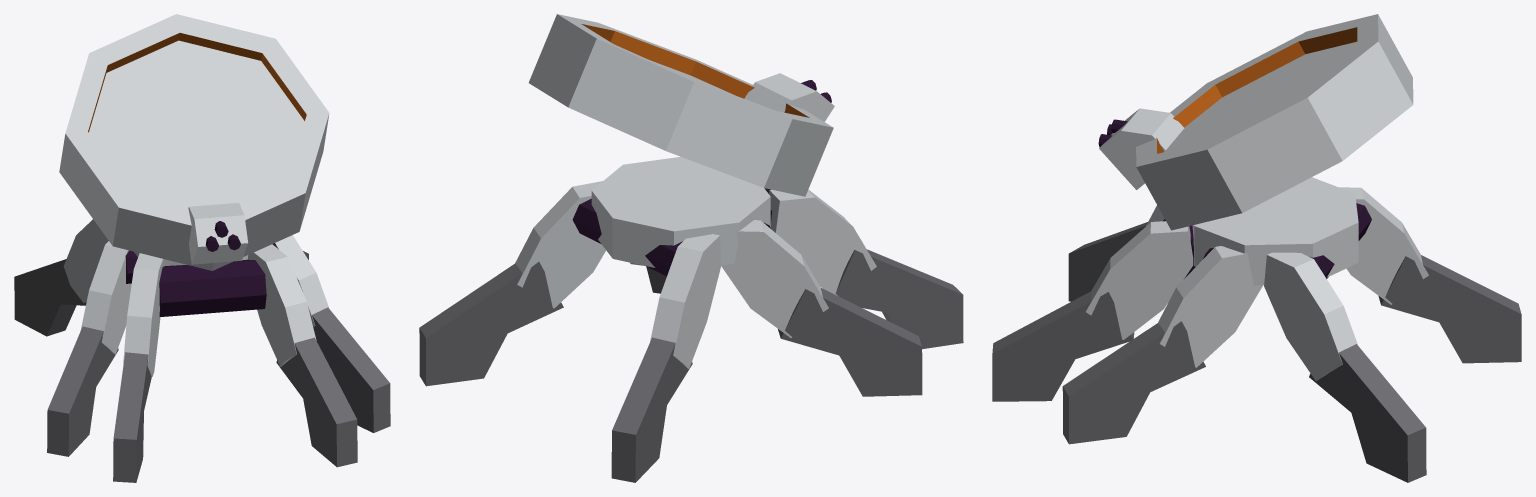
Rendered from Enemy Drone Blockout.fbx.
3 renders of one model, left to right at view 1: azimuth 30°, elevation 25°; view 2: azimuth 150°, elevation 25°; view 3: azimuth 270°, elevation 25°, orthographic. The views are drawn at different scales.
Parts seen in each view (by area): view 1: Cube.001; view 2: Cube.001; view 3: Cube.001.
Boxes of the visible parts, x1,y1,x2,y2 form: Cube.001: (14, 14, 390, 482); Cube.001: (419, 14, 963, 482); Cube.001: (992, 14, 1521, 482).
Bounding box in the file's own units: 536 × 472 × 624.
